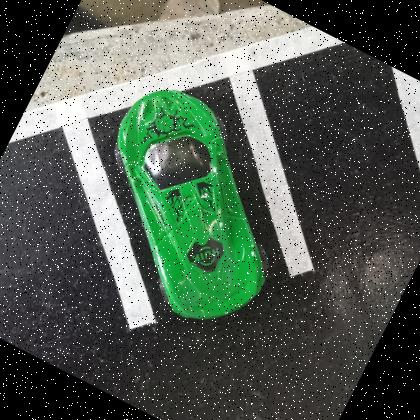Car: (114, 90, 264, 321)
